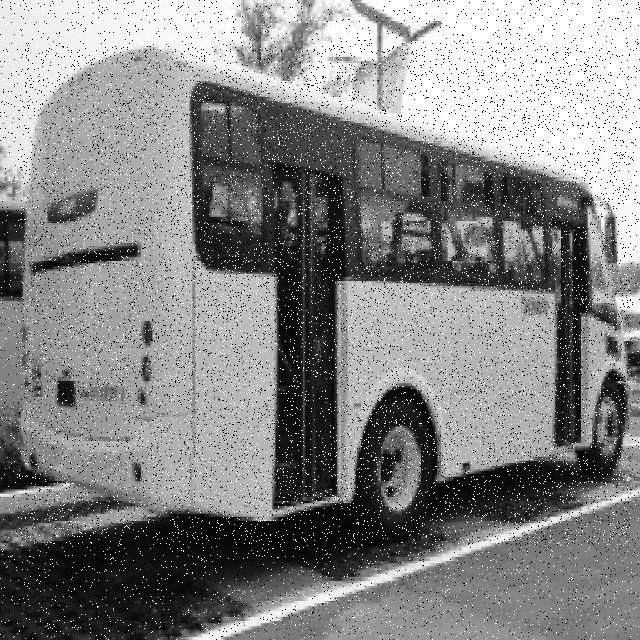Bus- Small: (18, 47, 631, 545)
